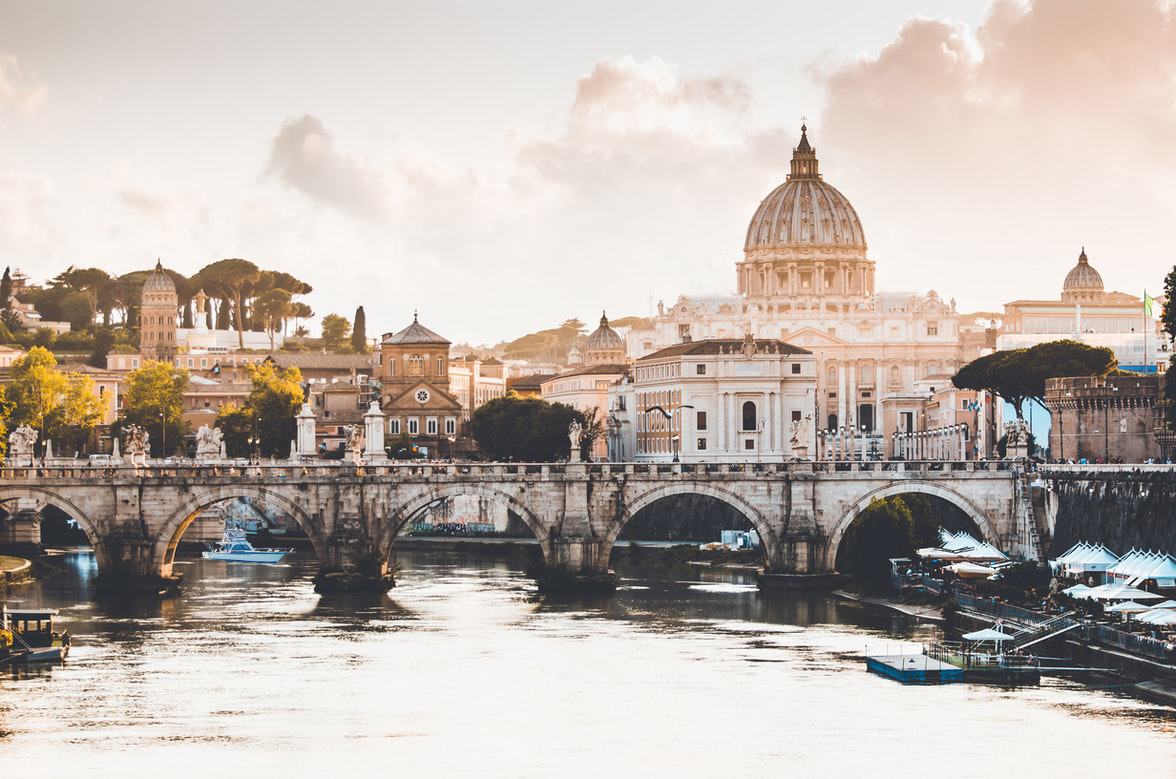copymove: (1055, 245, 1106, 303)
removal: (889, 245, 929, 297), (682, 250, 722, 302)
spliced: (185, 509, 299, 568)
